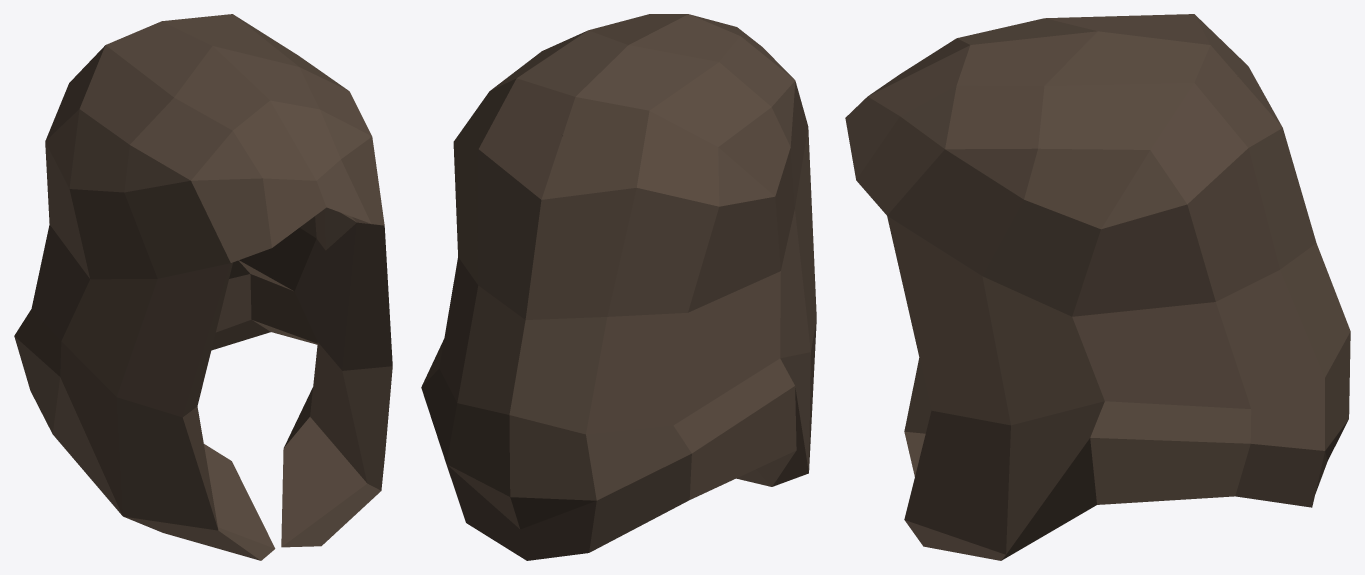
File: Hood_F_AD_009.fbx
The picture shows the model from 3 angles, left to right: view 1: azimuth 30°, elevation 25°; view 2: azimuth 150°, elevation 25°; view 3: azimuth 270°, elevation 25°; orthographic projection. The views are drawn at different scales.
Parts seen in each view (by area): view 1: Hood_F_AD_009; view 2: Hood_F_AD_009; view 3: Hood_F_AD_009.
Boxes of the visible parts, box(x1,y1,x2,y2) form: Hood_F_AD_009: box(14, 14, 392, 560); Hood_F_AD_009: box(421, 14, 816, 560); Hood_F_AD_009: box(845, 14, 1350, 560).
Size of the model in its own units: 0.3012 by 0.4075 by 0.3707.
